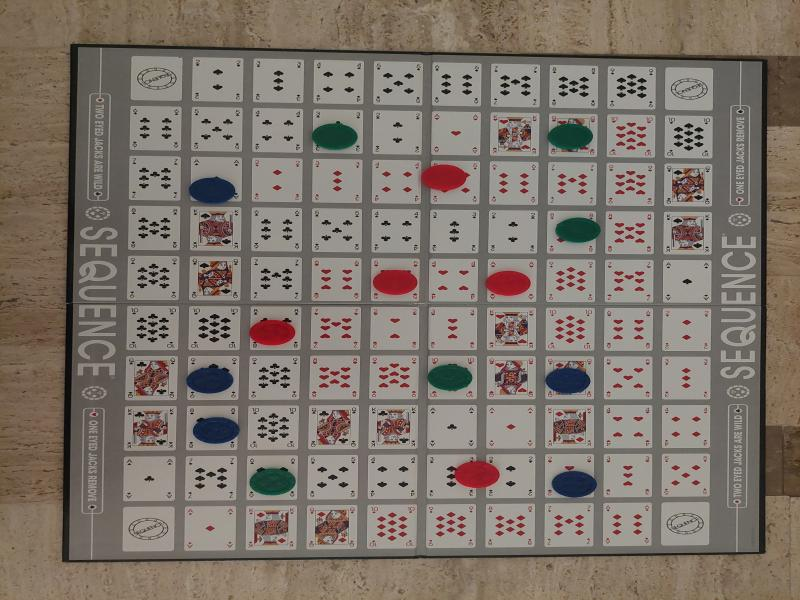Blue_Token: (182, 365, 237, 397), (189, 415, 242, 446), (548, 469, 601, 500), (542, 366, 596, 394), (186, 176, 240, 204)
Board: (54, 42, 776, 565)
Green_Token: (423, 362, 476, 392), (247, 466, 299, 496), (309, 122, 359, 152), (554, 216, 602, 245), (546, 122, 594, 150)
Red_Token: (478, 268, 534, 298), (246, 318, 301, 348), (419, 162, 471, 192), (452, 460, 505, 489), (368, 269, 422, 296)
